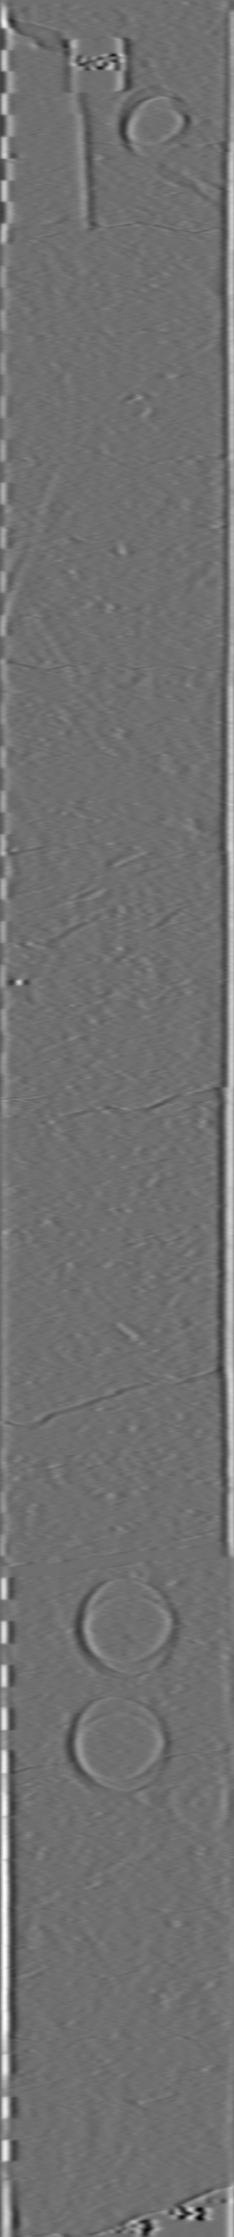hplug: (111, 84, 197, 163)
scal: (61, 1691, 174, 1798), (71, 1572, 175, 1683)
vplug: (11, 26, 97, 250)
